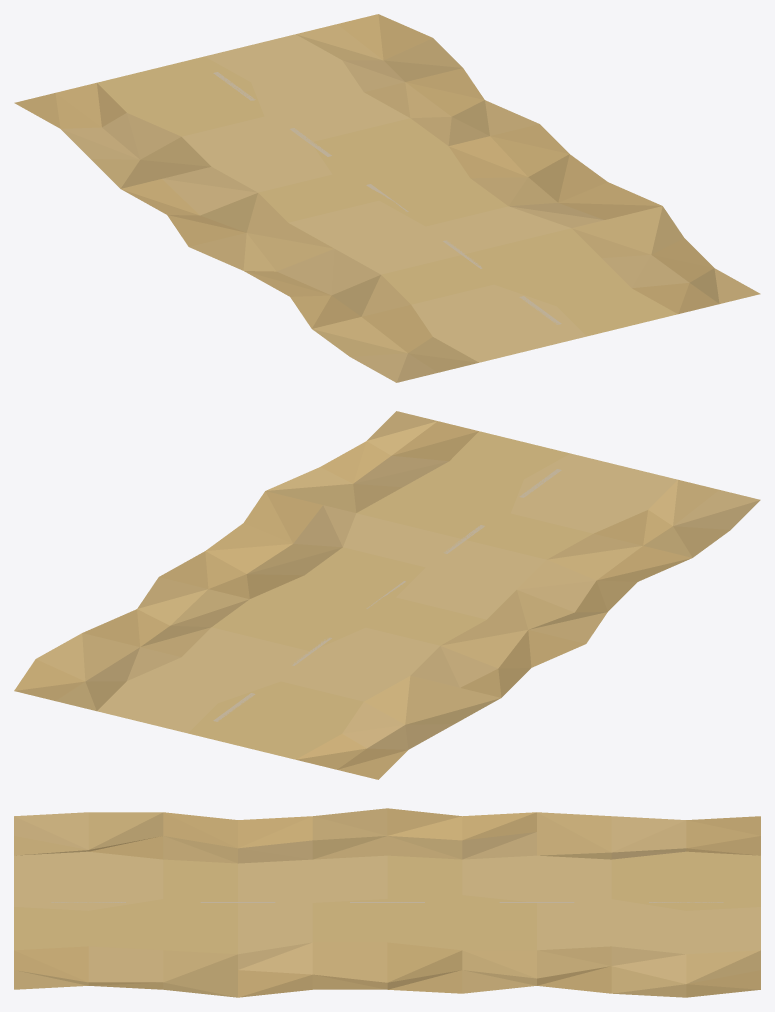
The model's file is drodb.obj.
3 views of the same model, one above another, from view 1: azimuth 30°, elevation 25°; view 2: azimuth 150°, elevation 25°; view 3: azimuth 270°, elevation 25° (orthographic). The views are drawn at different scales.
Size of the model in its own units: 3360 by 105 by 5600.
